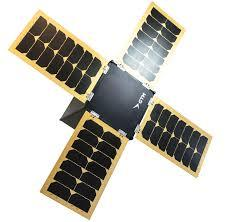body: (57, 58, 158, 142)
solar: (38, 109, 131, 222), (8, 7, 109, 104), (116, 0, 201, 91), (134, 95, 216, 180)
